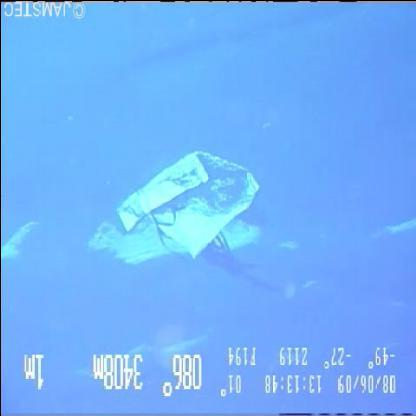Rác: (72, 135, 288, 279)
